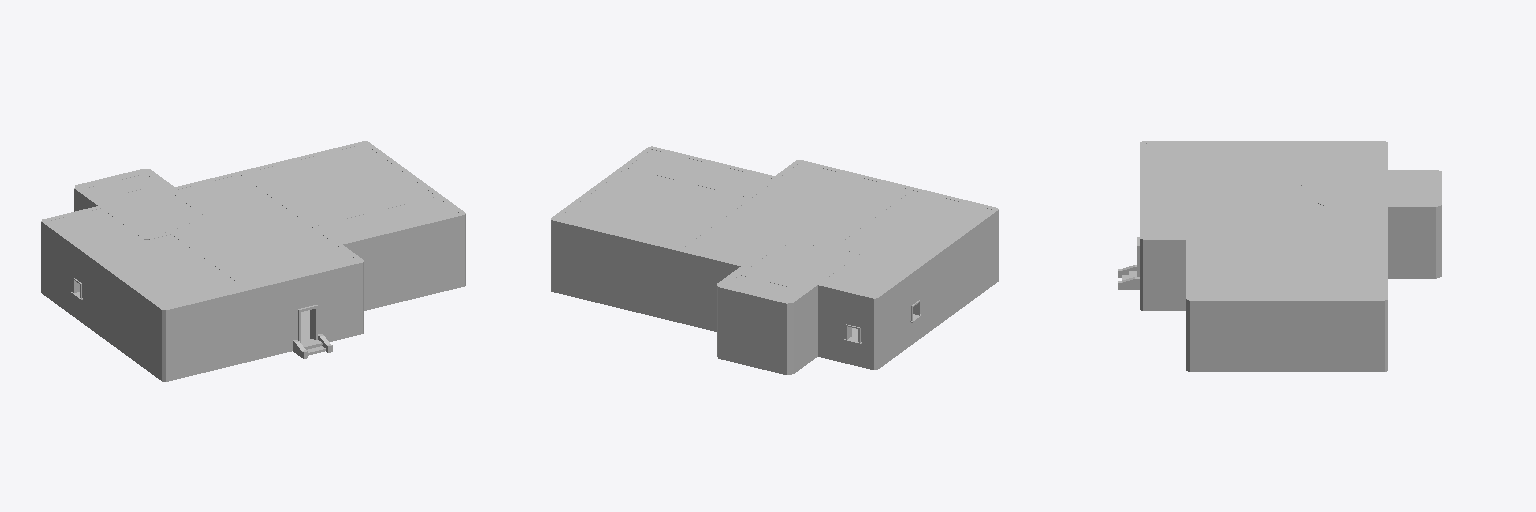
File: Apartment_One_Finished_v2.obj
3 views of the same model, side by side, from view 1: azimuth 30°, elevation 25°; view 2: azimuth 150°, elevation 25°; view 3: azimuth 270°, elevation 25° (orthographic).
Parts seen in each view (by area): view 1: wall_corner_257, wall_corner_330, wall_corner_144, floor_square_392, wall_straight_332, wall_straight_349, wall_straight_331, wall_straight_163, wall_straight_160, wall_straight_259, wall_doorwaySquare_164, floor_square_402 (+28 smaller); view 2: wall_straight_151, wall_straight_341, wall_corner_353, wall_straight_149, wall_straight_354, floor_square_392, wall_straight_261, wall_straight_355, wall_straight_154, wall_straight_364, floor_square_402, wall_straight_338 (+28 smaller); view 3: wall_straight_289, wall_corner_350, wall_corner_353, wall_straight_352, wall_straight_351, wall_straight_334, floor_square_392, wall_corner_144, wall_corner_256, wall_straight_284, wall_straight_280, wall_straight_145 (+28 smaller).
Boxes of the visible parts, x1,y1,x2,y2 form: wall_corner_257: [136, 314, 205, 381]; wall_corner_330: [136, 290, 205, 360]; wall_corner_144: [425, 236, 465, 295]; floor_square_392: [103, 174, 195, 220]; wall_straight_332: [243, 279, 287, 340]; wall_straight_349: [380, 222, 425, 285]; wall_straight_331: [203, 288, 246, 348]; wall_straight_163: [327, 284, 362, 341]; wall_straight_160: [206, 312, 246, 371]; wall_straight_259: [381, 246, 424, 306]; wall_doorwaySquare_164: [287, 292, 326, 351]; floor_square_402: [48, 208, 125, 239]; wall_straight_151: [717, 307, 793, 374]; wall_straight_341: [717, 283, 793, 353]; wall_corner_353: [551, 200, 595, 279]; wall_straight_149: [672, 271, 712, 330]; wall_straight_354: [592, 228, 634, 289]; floor_square_392: [728, 250, 817, 293]; wall_straight_261: [632, 261, 671, 320]; wall_straight_355: [631, 238, 674, 299]; wall_straight_154: [874, 301, 903, 369]; wall_straight_364: [834, 287, 877, 327]; floor_square_402: [821, 266, 896, 295]; wall_straight_338: [672, 247, 715, 309]; wall_straight_289: [1388, 228, 1435, 278]; wall_corner_350: [1186, 279, 1243, 350]; wall_corner_353: [1334, 279, 1387, 350]; wall_straight_352: [1287, 298, 1335, 350]; wall_straight_351: [1241, 298, 1289, 350]; wall_straight_334: [1140, 237, 1195, 289]; floor_square_392: [1328, 182, 1429, 202]; wall_corner_144: [1186, 320, 1240, 371]; wall_corner_256: [1334, 321, 1387, 371]; wall_straight_284: [1287, 322, 1333, 371]; wall_straight_280: [1140, 260, 1185, 310]; wall_straight_145: [1241, 322, 1286, 371].
Size of the model in its own units: 8.19 by 1.7 by 6.96.